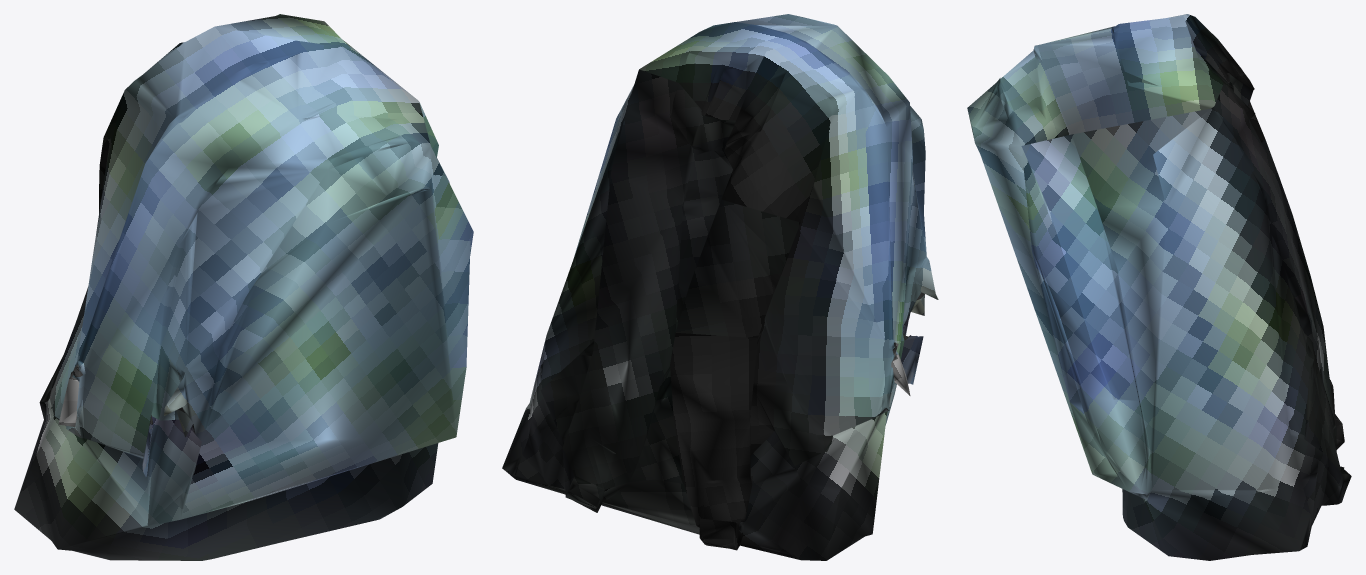
File: Olive_Kids_Dinosaur_Land_Sidekick_Backpack-low.glb
3 views of the same model, side by side, from view 1: azimuth 30°, elevation 25°; view 2: azimuth 150°, elevation 25°; view 3: azimuth 270°, elevation 25° (orthographic). The views are drawn at different scales.
Parts seen in each view (by area): view 1: Olive_Kids_Dinosaur_Land_Sidekick_Backpack; view 2: Olive_Kids_Dinosaur_Land_Sidekick_Backpack; view 3: Olive_Kids_Dinosaur_Land_Sidekick_Backpack.
Boxes of the visible parts, box(x1,y1,x2,y2) form: Olive_Kids_Dinosaur_Land_Sidekick_Backpack: box(14, 14, 473, 560); Olive_Kids_Dinosaur_Land_Sidekick_Backpack: box(502, 14, 938, 560); Olive_Kids_Dinosaur_Land_Sidekick_Backpack: box(967, 14, 1351, 560).
Size of the model in its own units: 0.3071 by 0.3783 by 0.2892.
1 material, 1 textured.
